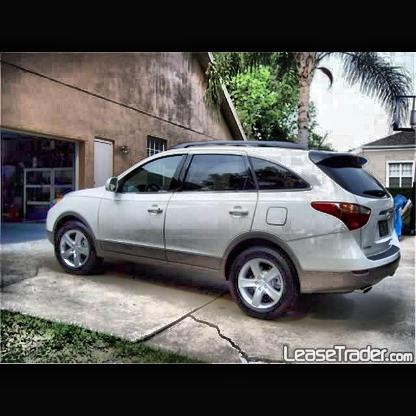Hyundai Veracruz SUV 2012: (46, 142, 399, 322)
